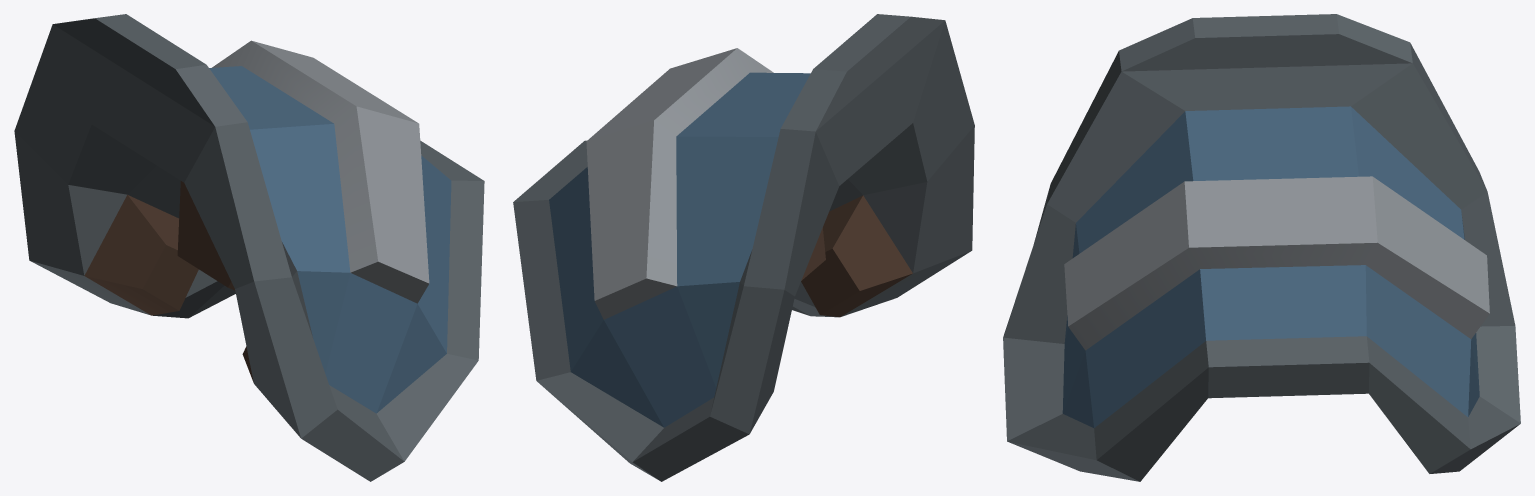
File: Chr_ShoulderAttachLeft_11_Static.fbx
3 renders of one model, left to right at view 1: azimuth 30°, elevation 25°; view 2: azimuth 150°, elevation 25°; view 3: azimuth 270°, elevation 25°, orthographic.
Visible parts, largest first — view 1: Chr_ShoulderAttachLeft_11_Static; view 2: Chr_ShoulderAttachLeft_11_Static; view 3: Chr_ShoulderAttachLeft_11_Static.
Boxes of the visible parts, box(x1,y1,x2,y2) form: Chr_ShoulderAttachLeft_11_Static: box(14, 14, 484, 481); Chr_ShoulderAttachLeft_11_Static: box(513, 14, 974, 481); Chr_ShoulderAttachLeft_11_Static: box(1003, 14, 1520, 481).
Bounding box in the file's own units: 0.2588 × 0.2829 × 0.3474.
